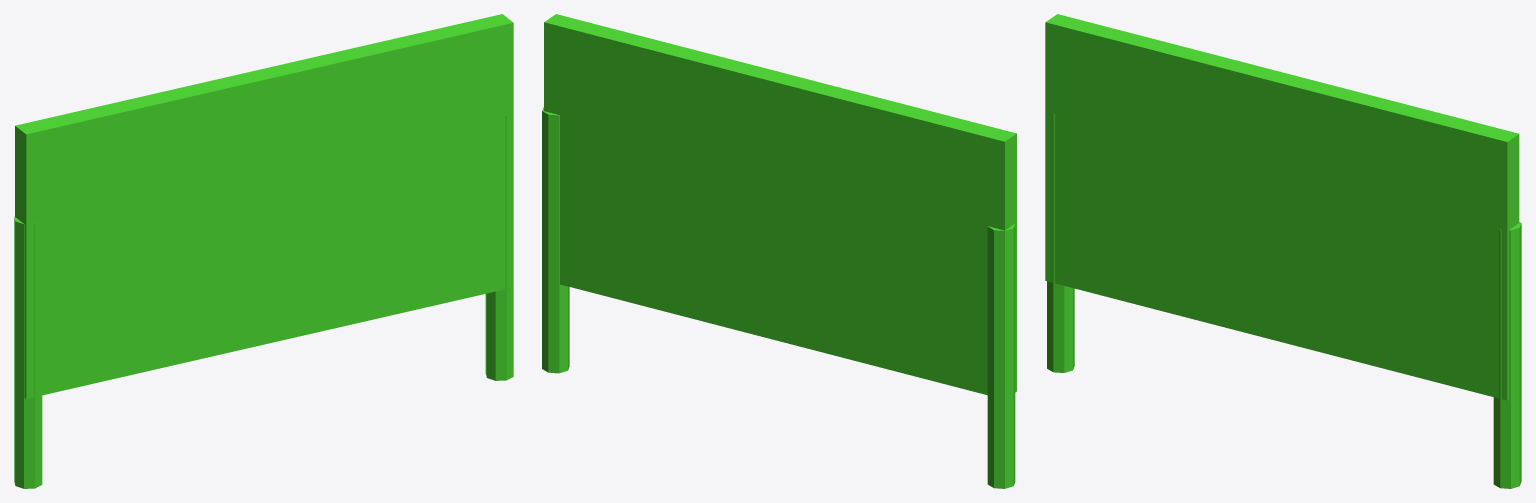
Rendered from cylinder.001_lev1_lev4.glb.
The picture shows the model from 3 angles, left to right: view 1: azimuth 30°, elevation 25°; view 2: azimuth 150°, elevation 25°; view 3: azimuth 330°, elevation 25°; orthographic projection. The views are drawn at different scales.
Visible parts, largest first — view 1: cylinder.001_lev1_lev4; view 2: cylinder.001_lev1_lev4; view 3: cylinder.001_lev1_lev4.
Part boxes in pixels (box(x1,y1,x2,y2)): cylinder.001_lev1_lev4: box(14, 14, 513, 488); cylinder.001_lev1_lev4: box(542, 14, 1016, 488); cylinder.001_lev1_lev4: box(1045, 14, 1521, 488).
Bounding box in the file's own units: 3.87 × 2.69 × 0.2982.
